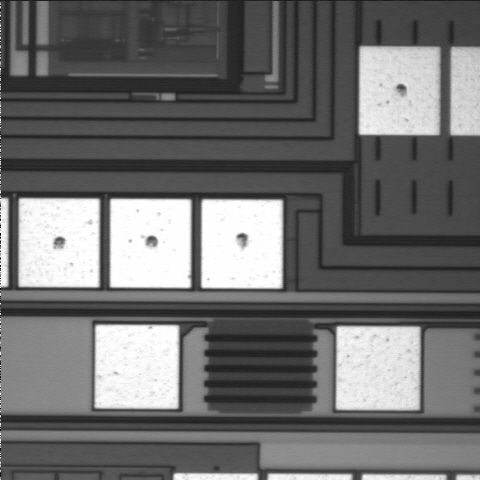pad: (201, 199, 283, 289), (19, 198, 100, 287), (110, 199, 191, 288), (359, 47, 440, 135), (95, 325, 179, 409), (336, 326, 420, 410)
